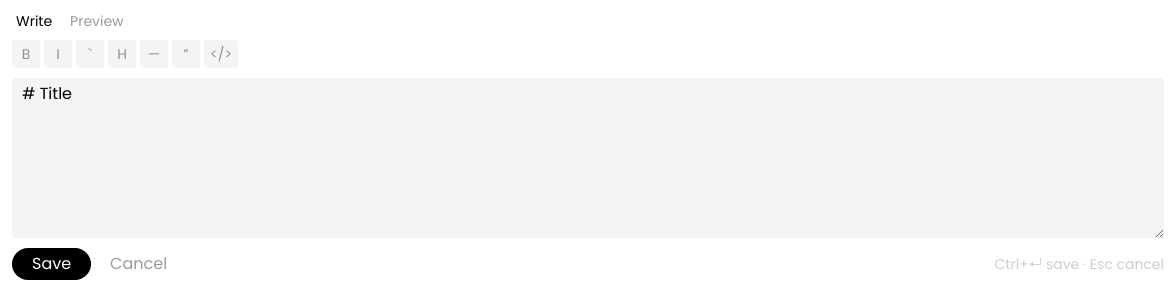
MarkdownEditor › switches to Preview and renders the markdown
Click the tab "Preview" at (97, 21), box x1=66 y1=12 x2=128 y2=30
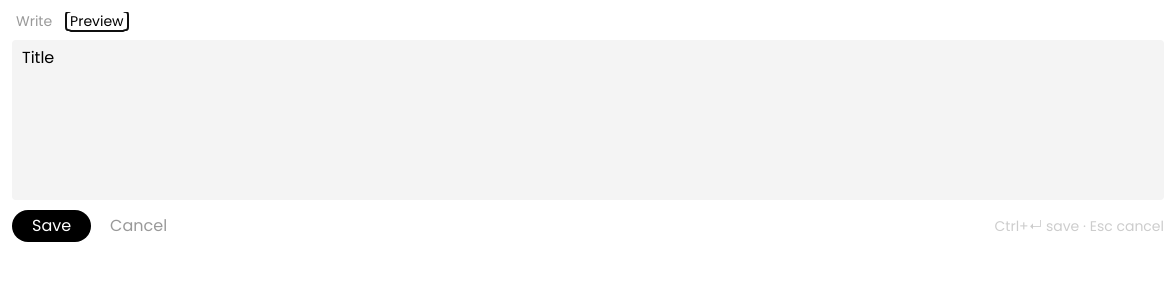
Expected: the heading "Title" is shown, x1=22 y1=46 x2=54 y2=69
